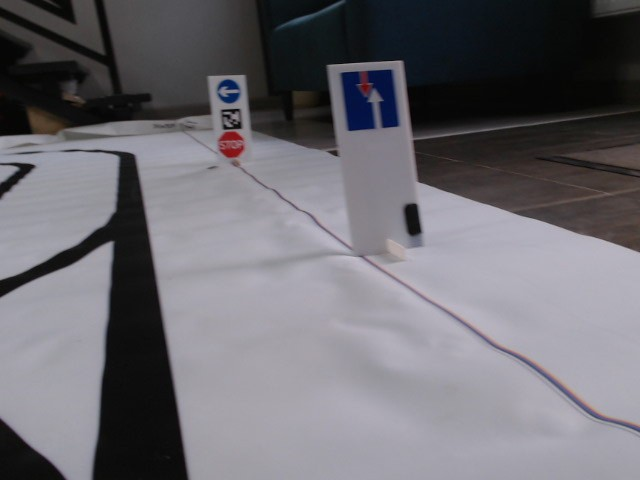Stop: (217, 131, 245, 158)
priority_movement: (341, 68, 401, 131)
